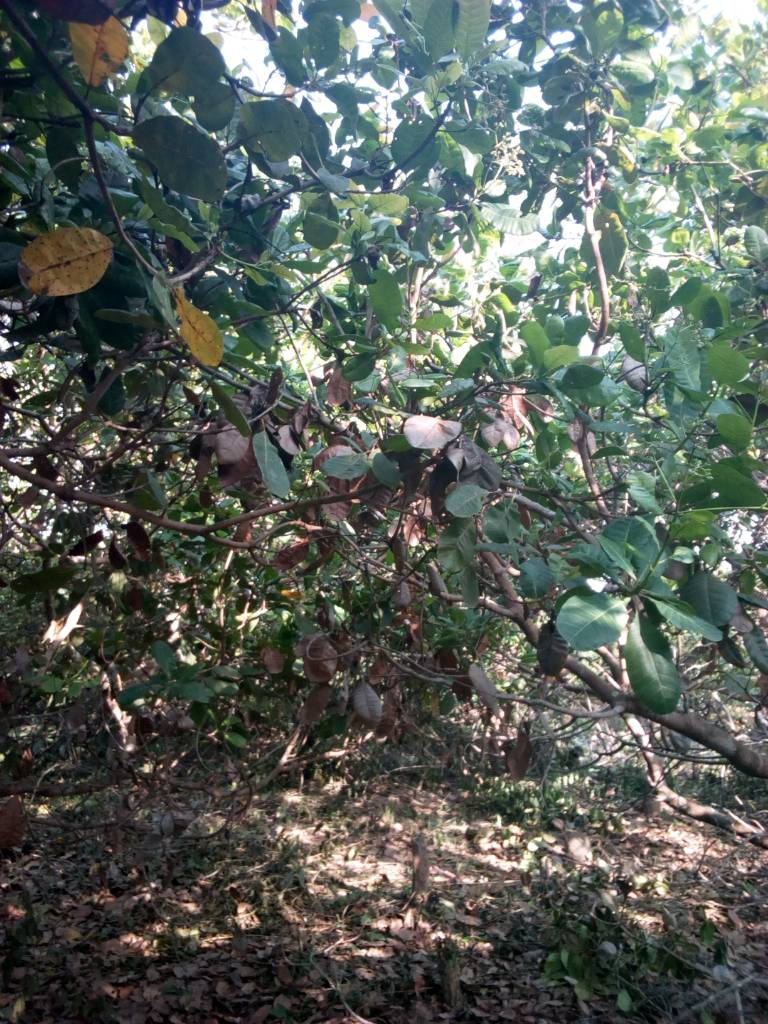Anthracnose: (16, 227, 115, 297), (171, 285, 222, 371)
